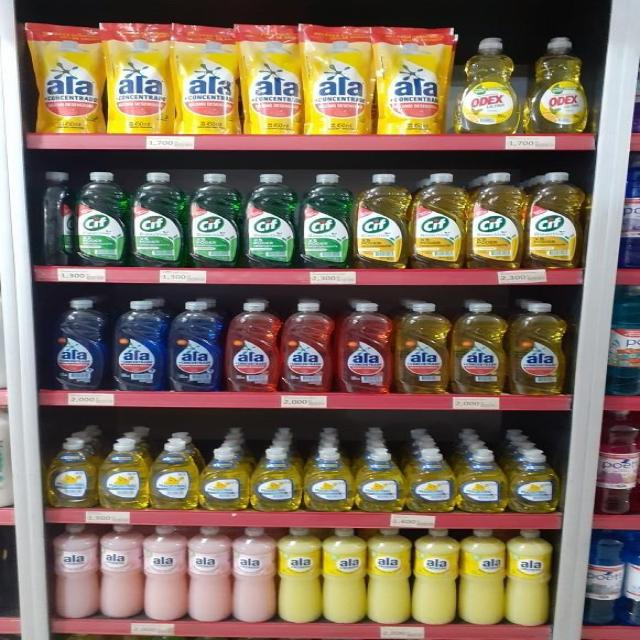ala_conc_amarillo: (509, 300, 567, 395), (451, 300, 506, 394), (395, 301, 449, 394)
ala_conc_azul: (50, 298, 108, 391), (168, 299, 222, 392), (111, 299, 165, 392)
ala_conc_rojo: (337, 300, 392, 395), (224, 299, 278, 393), (280, 300, 334, 393)
ala_crem_amarillo: (412, 528, 457, 625), (506, 528, 550, 626), (460, 528, 504, 625), (322, 528, 366, 624), (368, 528, 410, 624), (278, 527, 320, 623)
ala_crem_rosado: (53, 523, 98, 619), (232, 525, 276, 623), (188, 525, 231, 622), (143, 524, 186, 620), (100, 523, 142, 620)
ala_sachet_amarillo: (376, 26, 449, 134), (32, 22, 102, 134), (304, 24, 372, 135), (106, 22, 170, 134), (173, 24, 238, 134), (241, 24, 301, 134)
cif_conc_bot_amarilla: (468, 171, 524, 269), (526, 170, 582, 268), (353, 172, 408, 269), (411, 172, 466, 268)
cif_conc_botella_verde: (130, 171, 186, 267), (188, 172, 242, 268), (298, 173, 352, 269), (244, 172, 296, 269), (76, 171, 128, 267), (41, 171, 74, 266)
magistral_con_amarillo: (46, 437, 96, 508), (99, 439, 148, 509), (251, 446, 301, 512), (151, 439, 197, 510), (510, 449, 560, 513), (304, 447, 353, 512), (457, 449, 506, 513), (355, 448, 404, 512), (406, 448, 455, 512), (200, 447, 248, 511)
odex: (455, 37, 521, 134), (526, 35, 590, 133)
